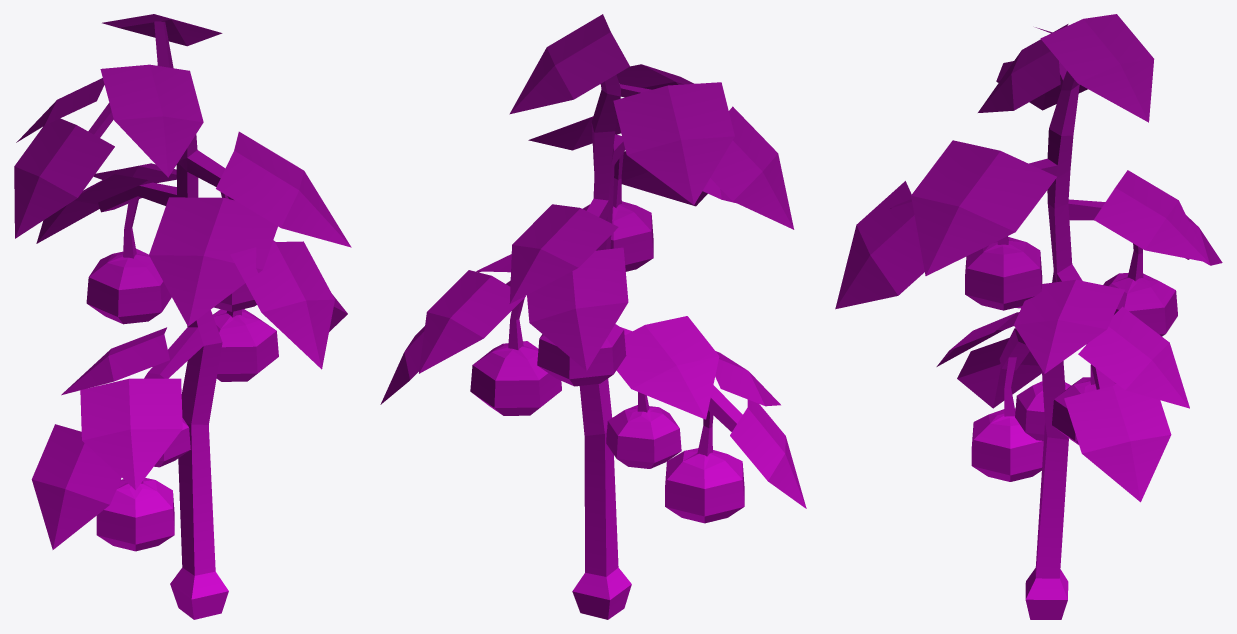
The model's file is SM_Prop_Plant_Bush_02_Tomato.fbx.
3 views of the same model, side by side, from view 1: azimuth 30°, elevation 25°; view 2: azimuth 150°, elevation 25°; view 3: azimuth 270°, elevation 25° (orthographic). The views are drawn at different scales.
Visible parts, largest first — view 1: SM_Prop_Plant_Bush_02_Tomato; view 2: SM_Prop_Plant_Bush_02_Tomato; view 3: SM_Prop_Plant_Bush_02_Tomato.
Part boxes in pixels (x1,y1,x2,y2): SM_Prop_Plant_Bush_02_Tomato: (14,14,351,619); SM_Prop_Plant_Bush_02_Tomato: (380,14,806,619); SM_Prop_Plant_Bush_02_Tomato: (835,14,1222,619).
Size of the model in its own units: 62.71 by 98.88 by 59.72.
